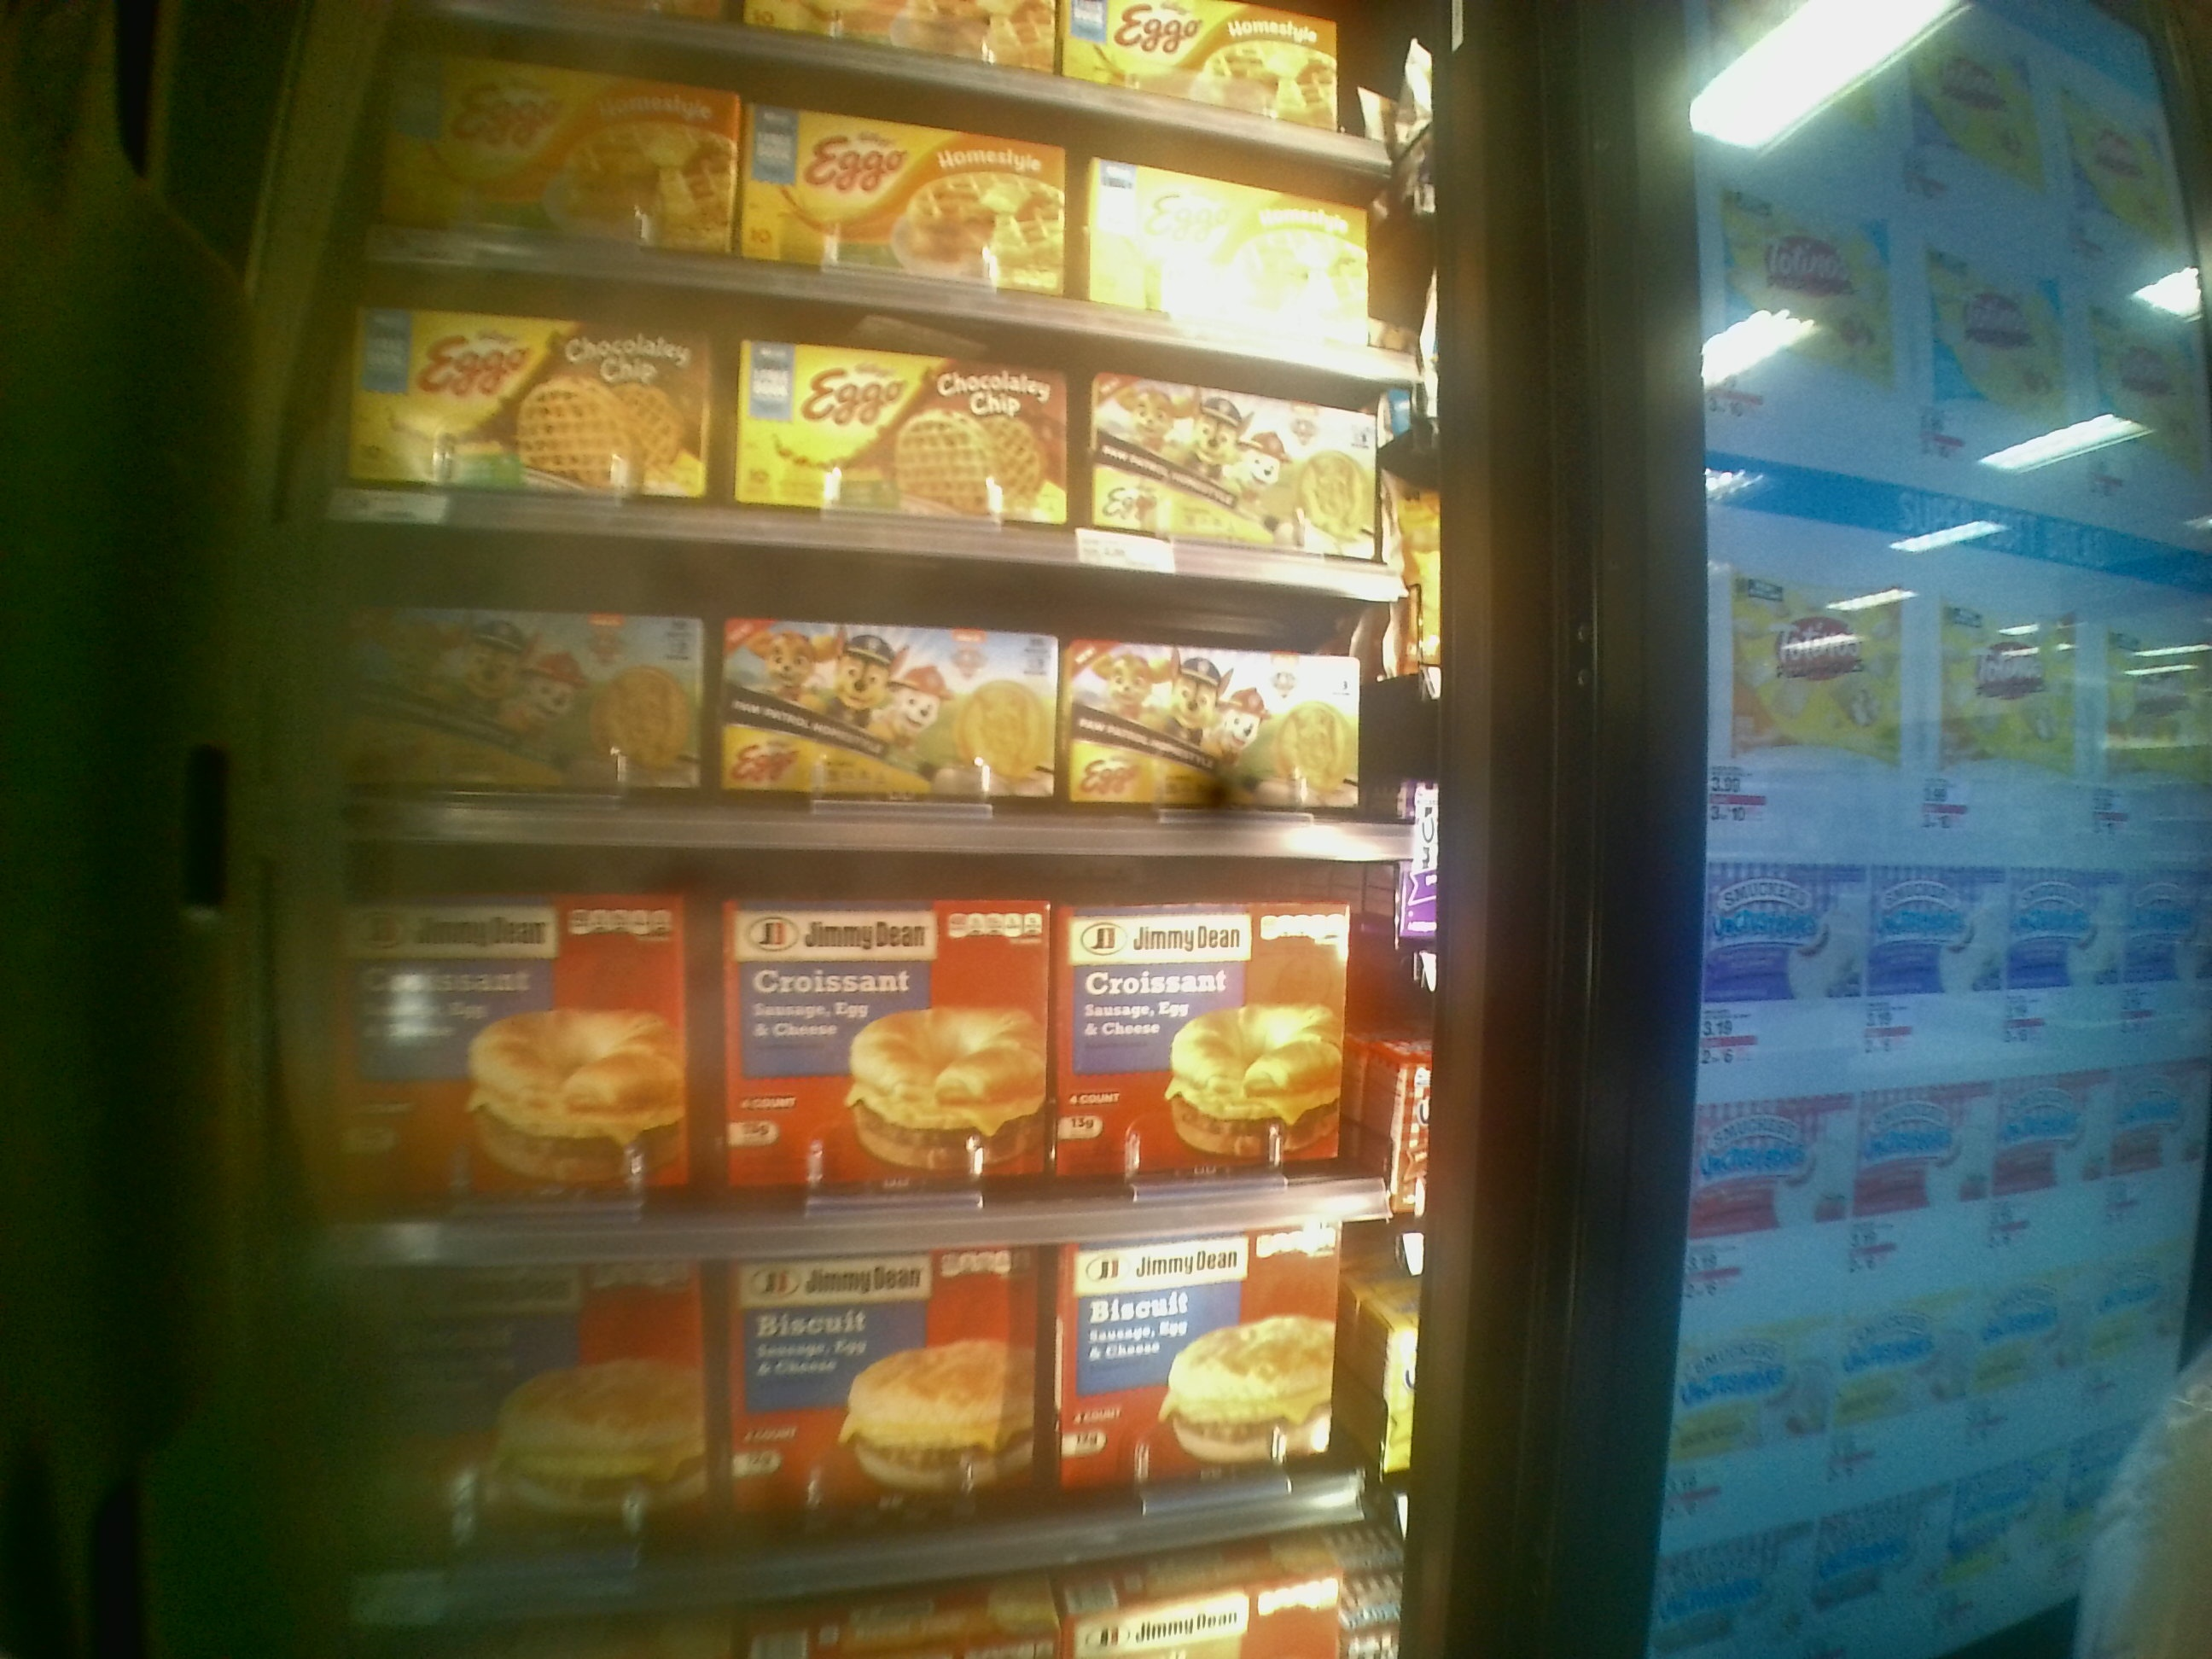shelf: (310, 843, 1411, 1263)
